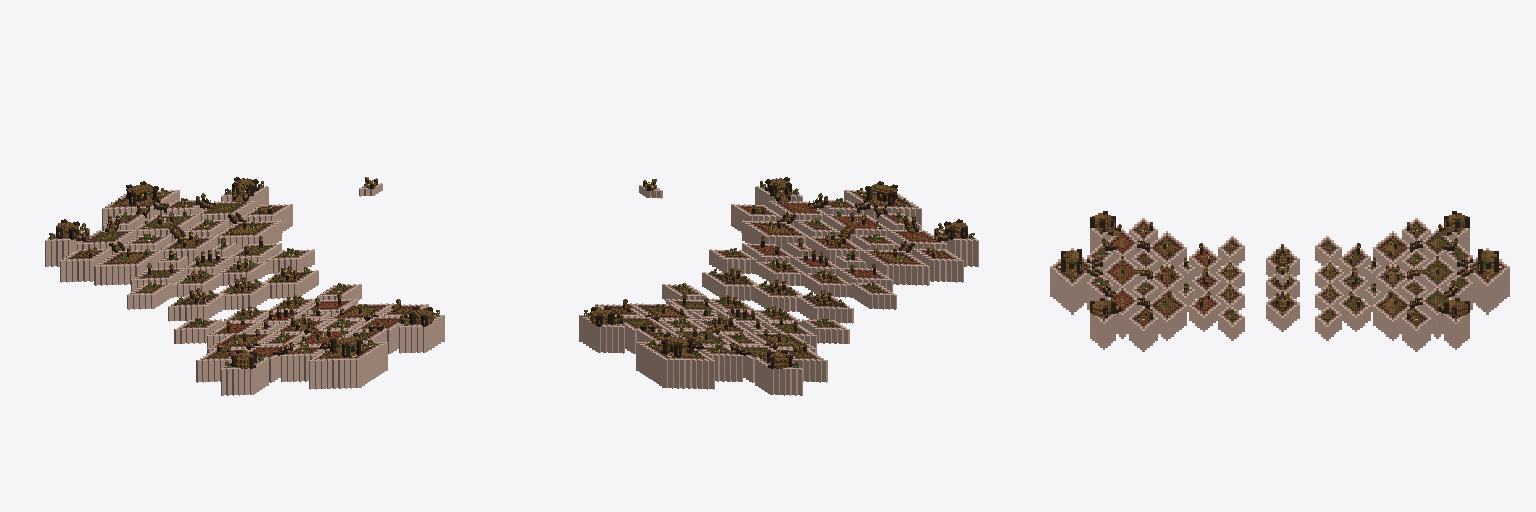
3 renders of one model, left to right at view 1: azimuth 30°, elevation 25°; view 2: azimuth 150°, elevation 25°; view 3: azimuth 270°, elevation 25°, orthographic.
Bounding box in the file's own units: 112 × 40 × 175.
23 materials, 22 textured.